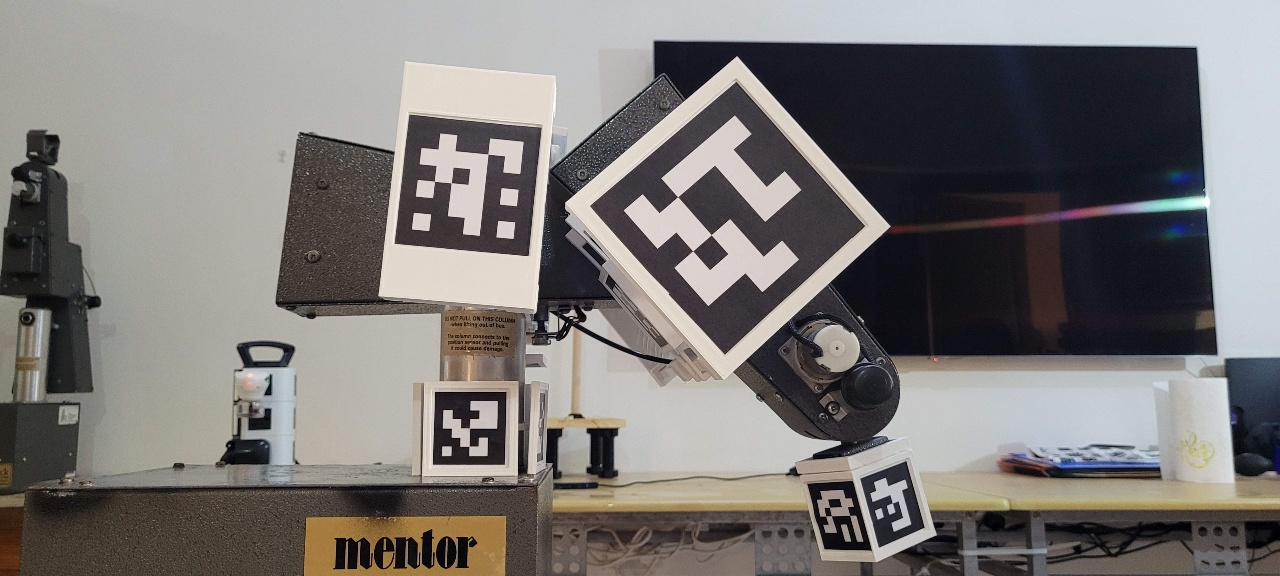Robot: (207, 3, 888, 576)
